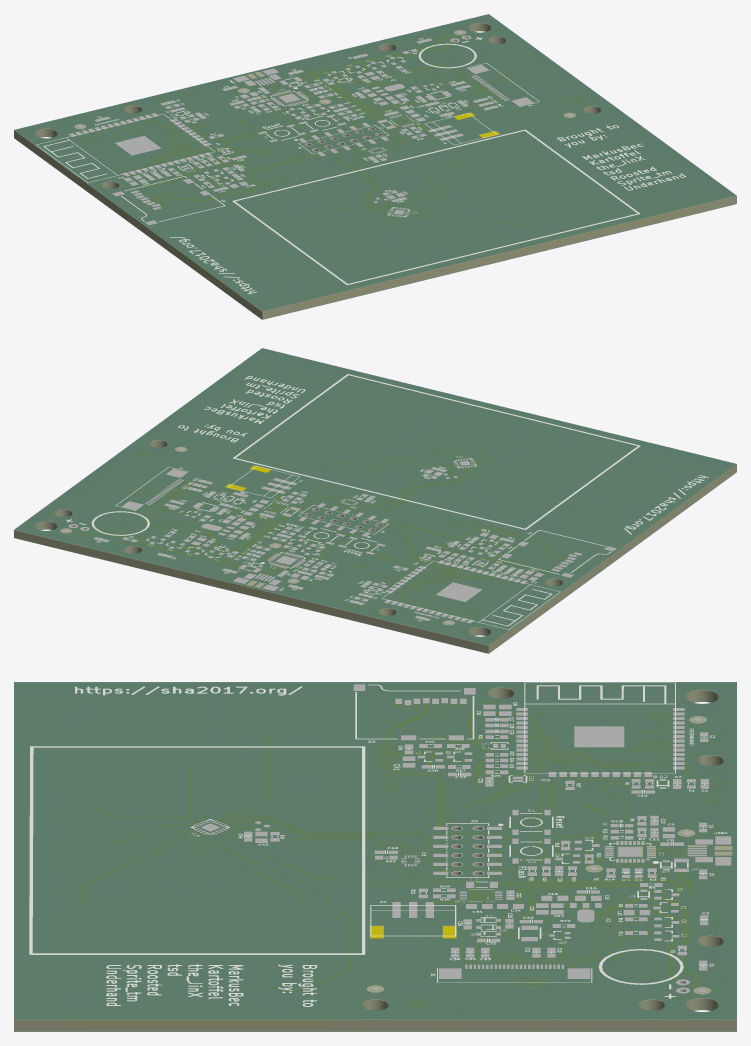
File: sha2017-badge.glb
3 views of the same model, one above another, from view 1: azimuth 30°, elevation 25°; view 2: azimuth 150°, elevation 25°; view 3: azimuth 270°, elevation 25° (orthographic). The views are drawn at different scales.
Parts seen in each view (by area): view 1: =>[0:1:1:7], =>[0:1:1:9], =>[0:1:1:2], =>[0:1:1:5]; view 2: =>[0:1:1:7], =>[0:1:1:9], =>[0:1:1:2], =>[0:1:1:5]; view 3: =>[0:1:1:7], =>[0:1:1:9], =>[0:1:1:2], =>[0:1:1:5].
Boxes of the visible parts, <box> form: =>[0:1:1:7]: <box>14,14,736,319</box>; =>[0:1:1:9]: <box>14,15,736,319</box>; =>[0:1:1:2]: <box>65,30,678,287</box>; =>[0:1:1:5]: <box>36,37,685,294</box>; =>[0:1:1:7]: <box>14,348,736,653</box>; =>[0:1:1:9]: <box>14,349,736,653</box>; =>[0:1:1:2]: <box>49,373,679,631</box>; =>[0:1:1:5]: <box>66,374,708,629</box>; =>[0:1:1:7]: <box>14,682,736,1031</box>; =>[0:1:1:9]: <box>14,683,736,1031</box>; =>[0:1:1:2]: <box>60,684,731,1014</box>; =>[0:1:1:5]: <box>29,682,727,1006</box>.
Bounding box in the file's own units: 0.0953 × 0.00166 × 0.0863.
Materials: 4 (4 with a texture image).
